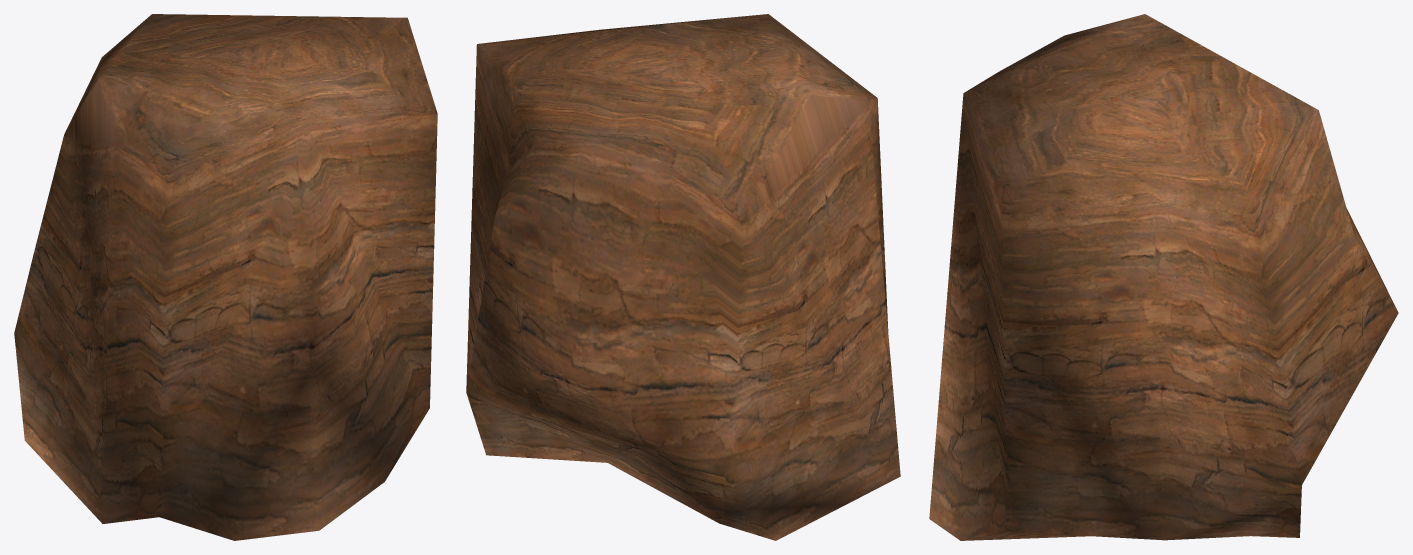
The model's file is rock_tatt_jundland_boulder_l2.fbx.
3 views of the same model, side by side, from view 1: azimuth 30°, elevation 25°; view 2: azimuth 150°, elevation 25°; view 3: azimuth 270°, elevation 25° (orthographic). The views are drawn at different scales.
Visible parts, largest first — view 1: mesh_node; view 2: mesh_node; view 3: mesh_node.
Part boxes in pixels (x1,y1,x2,y2): mesh_node: [14, 14, 437, 540]; mesh_node: [466, 14, 900, 540]; mesh_node: [929, 14, 1398, 540].
Bounding box in the file's own units: 2.15 × 2.28 × 2.2.
